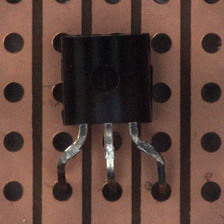body: (62, 34, 151, 125)
hole: (90, 66, 120, 93), (52, 132, 73, 152), (151, 33, 172, 53), (202, 33, 222, 53), (102, 131, 122, 151), (201, 182, 221, 202), (201, 83, 221, 103), (4, 132, 24, 152), (151, 182, 171, 202), (201, 132, 221, 152), (102, 182, 122, 202), (3, 181, 23, 201), (4, 33, 24, 53), (4, 82, 24, 102), (152, 132, 172, 152), (152, 82, 171, 103), (53, 183, 72, 201), (53, 33, 68, 52), (52, 82, 63, 102), (154, 0, 169, 4), (6, 0, 21, 4), (105, 0, 120, 4), (204, 0, 219, 4), (56, 0, 70, 4)
lead_tip: (129, 122, 166, 184), (57, 124, 88, 185), (104, 123, 115, 182)
